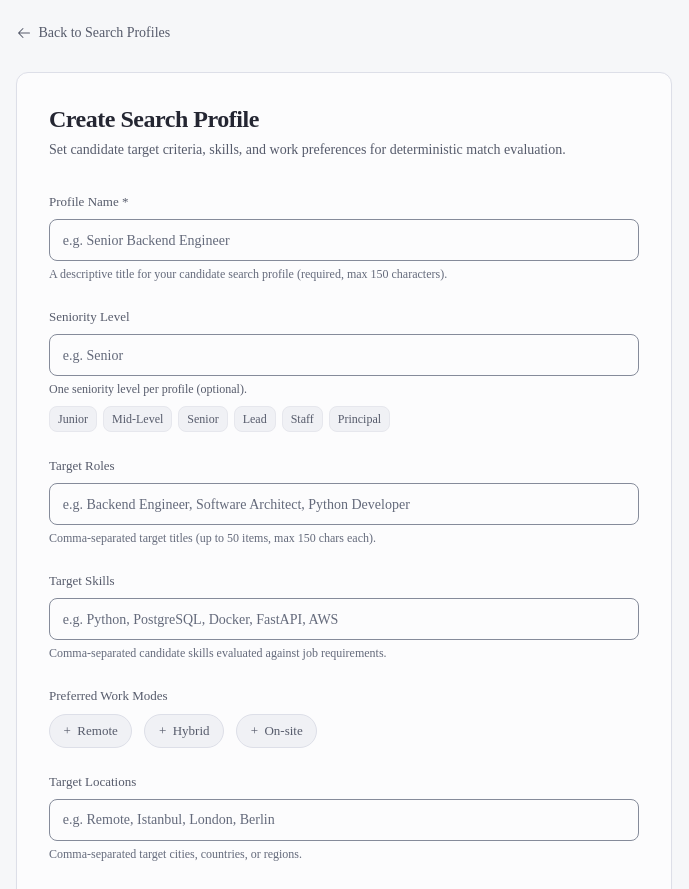
Test: Search Profile Management UI › 7. displays backend 422 validation errors properly
Type "Valid Temp" into the field with test id "profile-name-input" at point(344, 240), box [49,219,639,261]
(page scrolled)
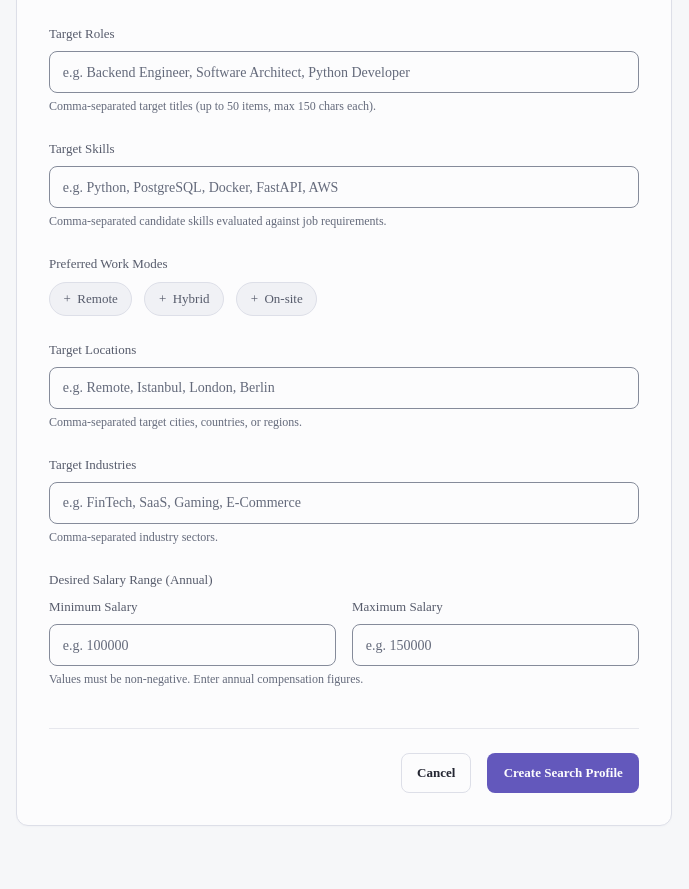
Click the button with test id "submit-create-profile-btn" at point(563, 773), box [488,753,639,793]
(page scrolled)
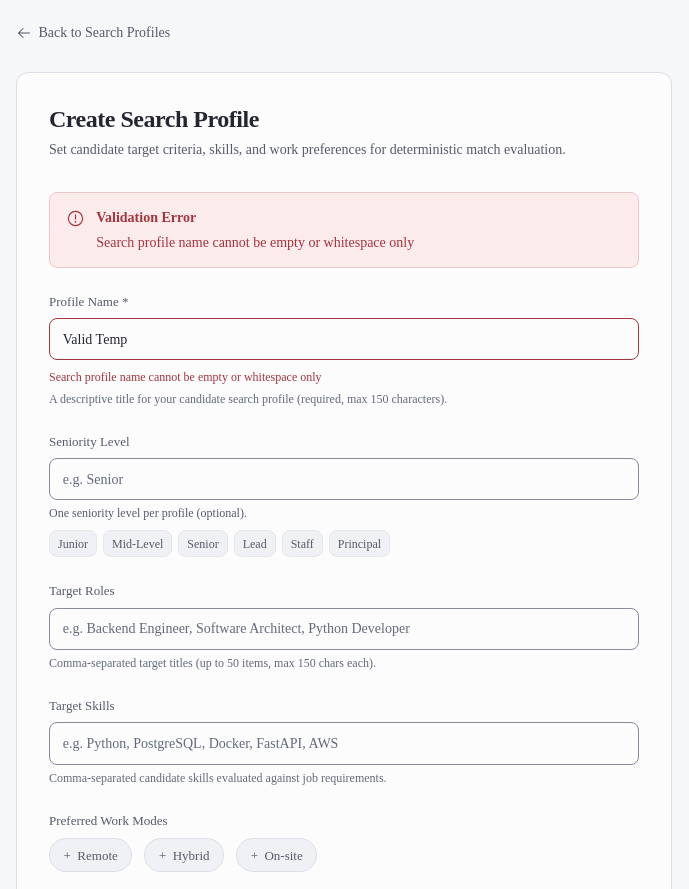
Expected: the element with test id "create-profile-api-error" is shown, [49,192,639,268]
Expected: the text "Validation Error" is shown, [96,210,196,225]
